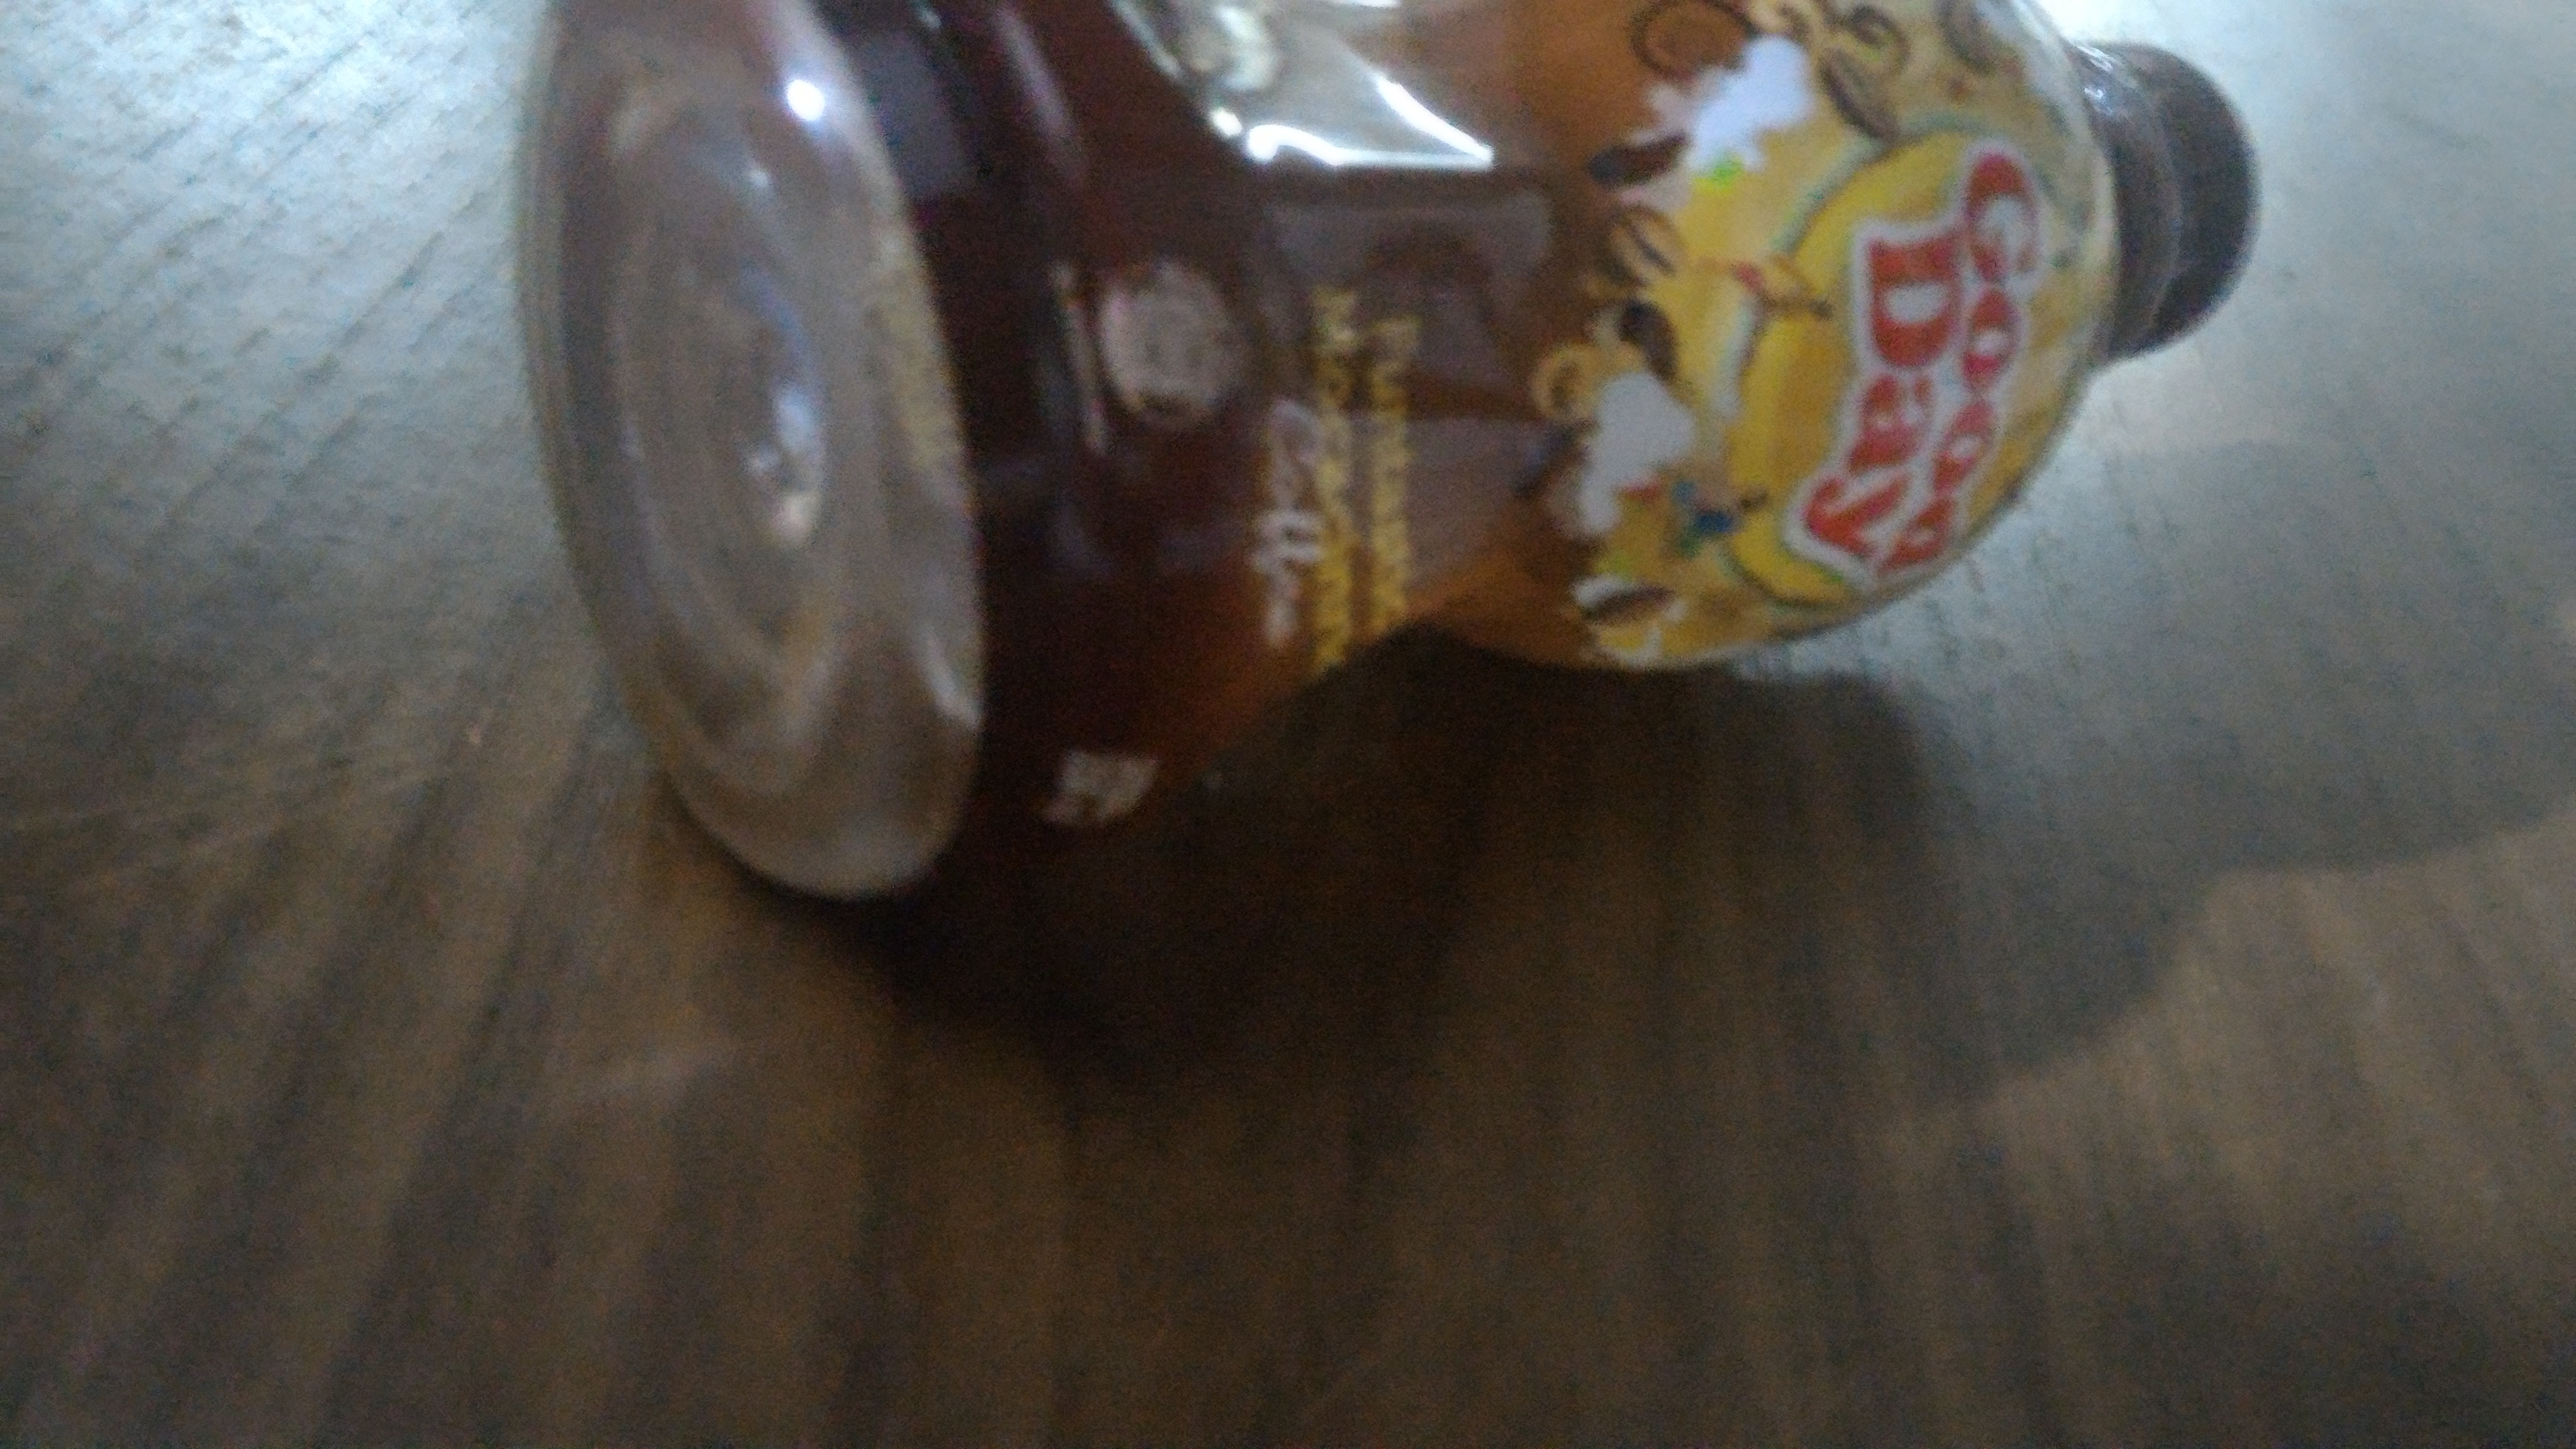botol: (518, 4, 2265, 895), (435, 4, 2265, 807), (518, 4, 2265, 807)
